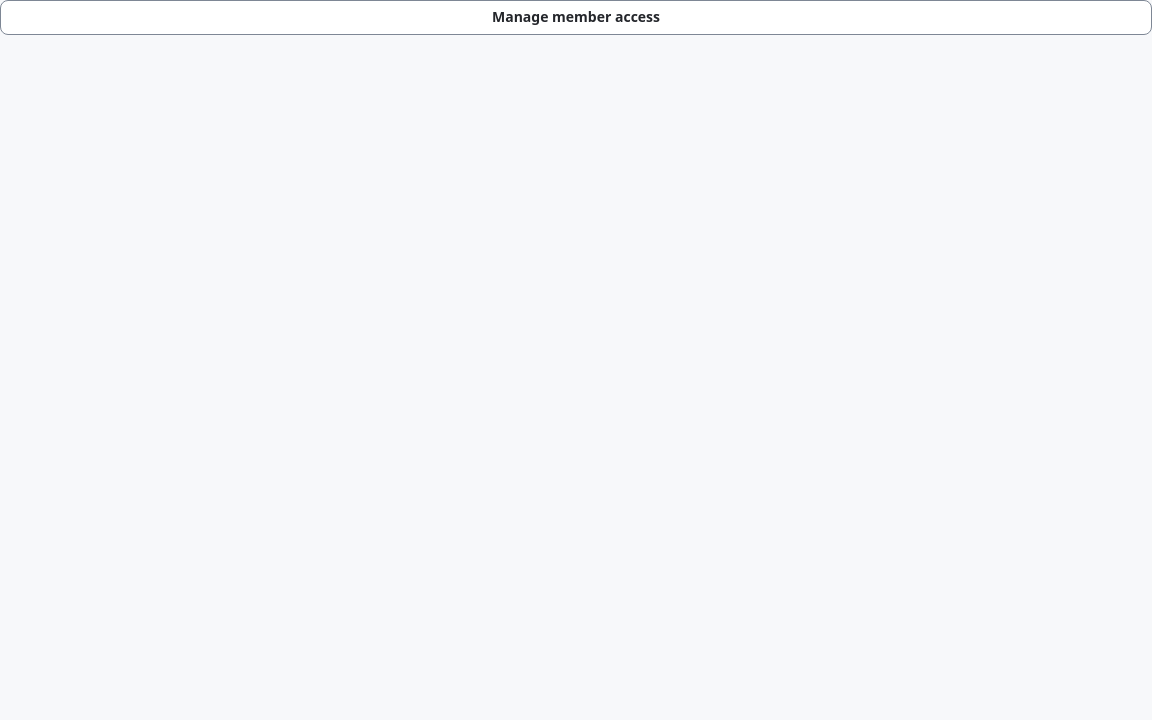
organization member controls › reviews a role change before sending and confirms authoritative access
Step 1. Click the button "Manage member access" → point(576, 17), box x1=0 y1=0 x2=1151 y2=35
(page scrolled)
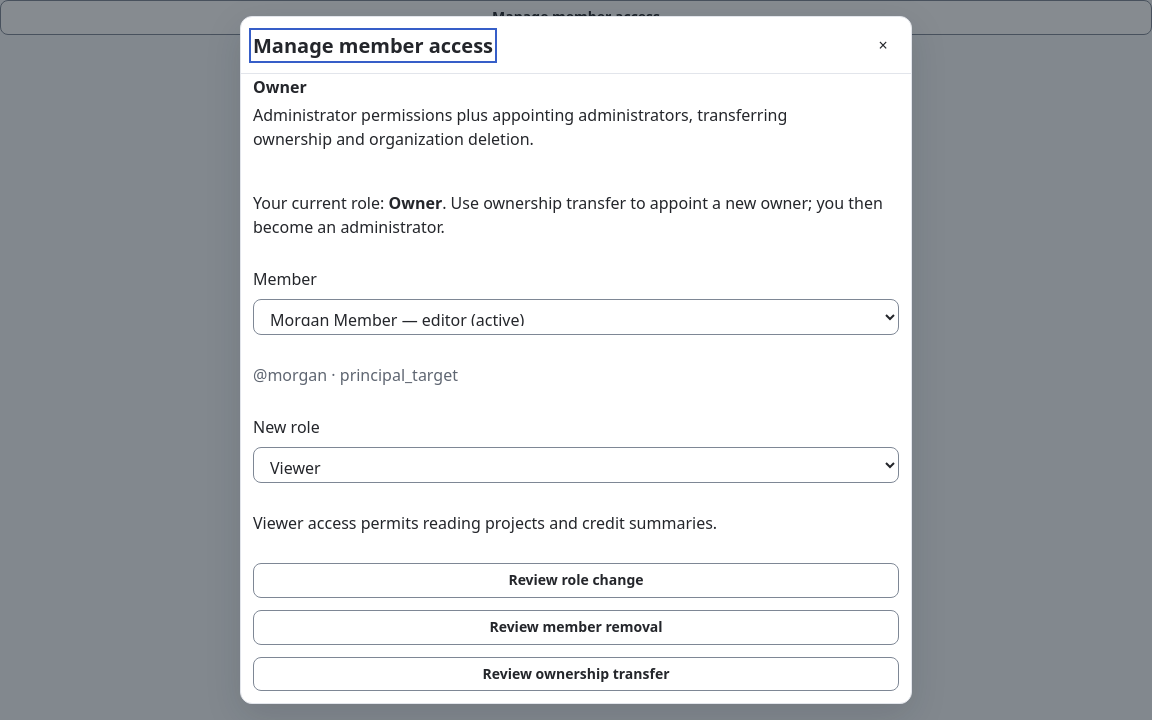
Now the dropdown labelled "Member" is shown, box x1=253 y1=299 x2=899 y2=335
Step 2. Click the button "Review role change" → point(576, 580), box x1=253 y1=563 x2=899 y2=598
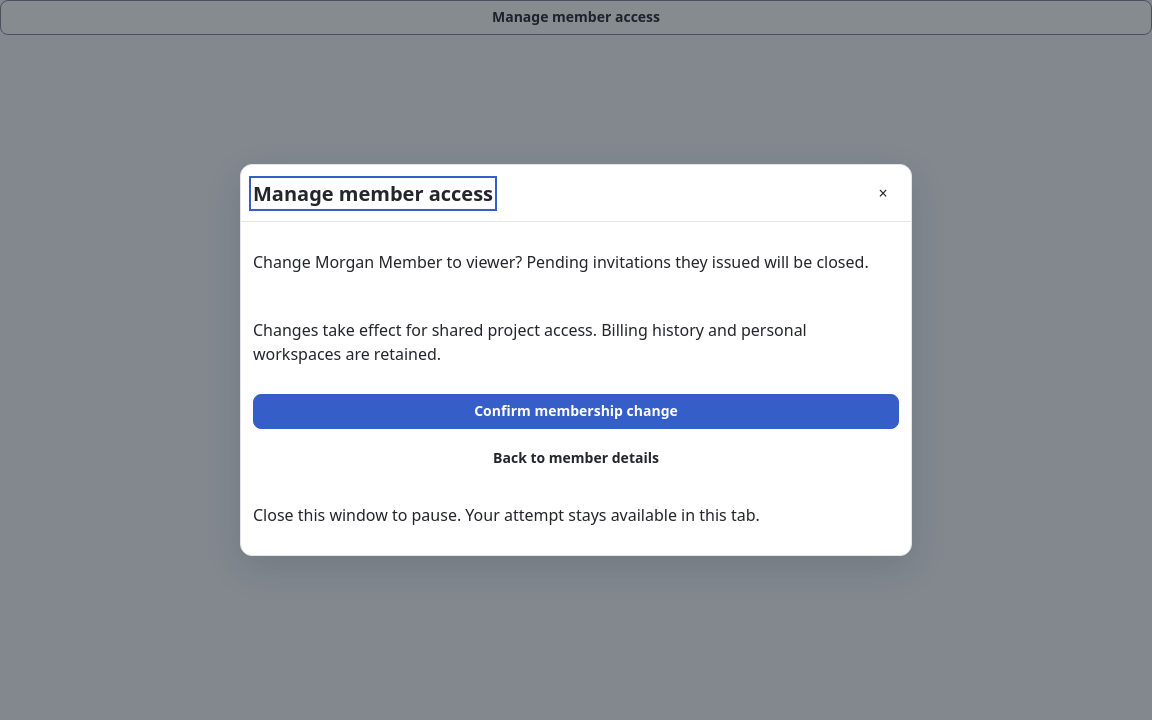
Now the text "Change Morgan Member to viewer" is shown, box x1=253 y1=251 x2=869 y2=273
Step 3. Click the button "Confirm membership change" → point(576, 411), box x1=253 y1=394 x2=899 y2=428
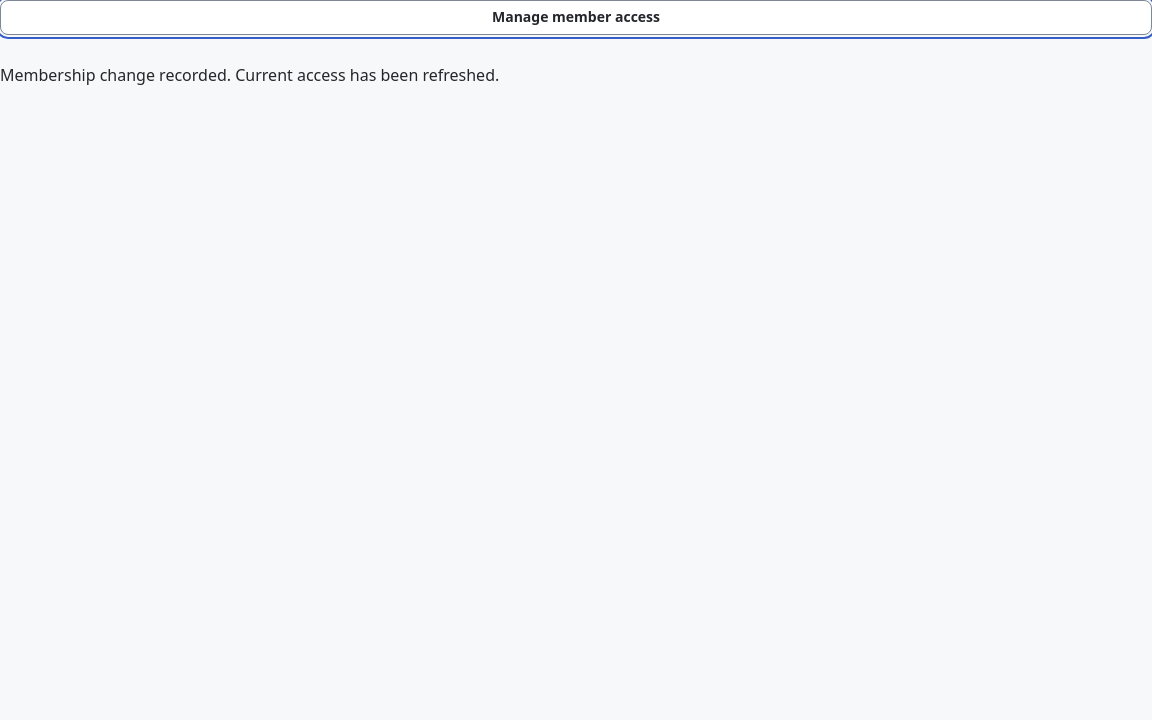
Now the text "Membership change recorded. Current access has been refreshed." is shown, box x1=0 y1=64 x2=499 y2=86
